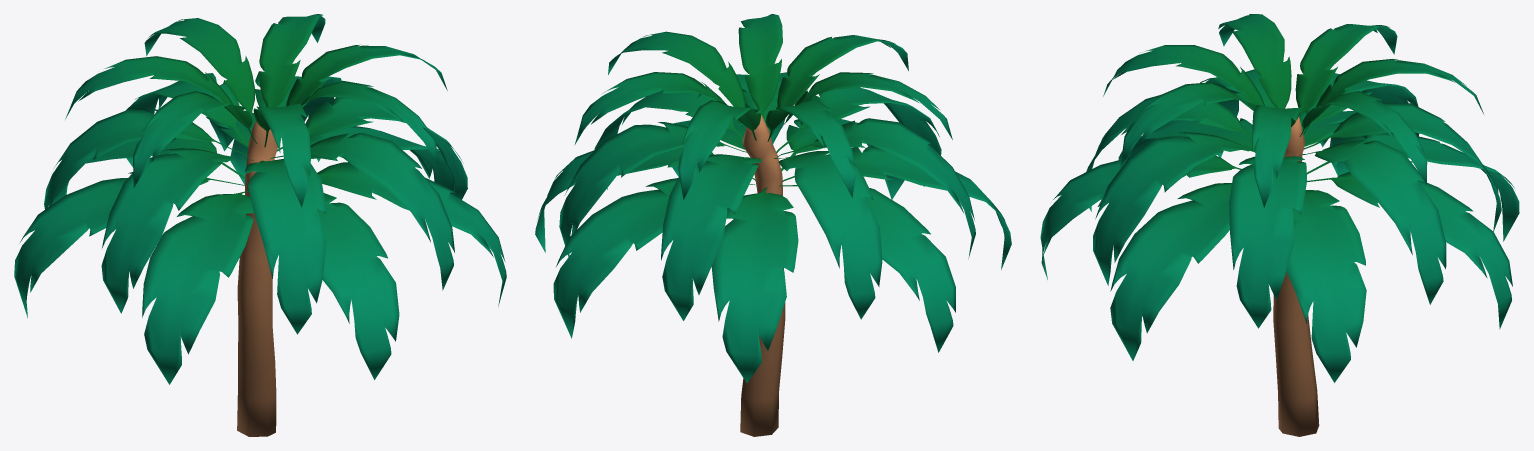
Rendered from palmerilla2.fbx.
3 views of the same model, side by side, from view 1: azimuth 30°, elevation 25°; view 2: azimuth 150°, elevation 25°; view 3: azimuth 270°, elevation 25° (orthographic). The views are drawn at different scales.
Parts seen in each view (by area): view 1: palmerilla2; view 2: palmerilla2; view 3: palmerilla2.
Part boxes in pixels (left/top/right/bottom): palmerilla2: left=14, top=14, right=506, bottom=436; palmerilla2: left=535, top=14, right=1011, bottom=436; palmerilla2: left=1040, top=14, right=1519, bottom=436.
Bounding box in the file's own units: 337 × 275 × 331.
1 material, 1 textured.
